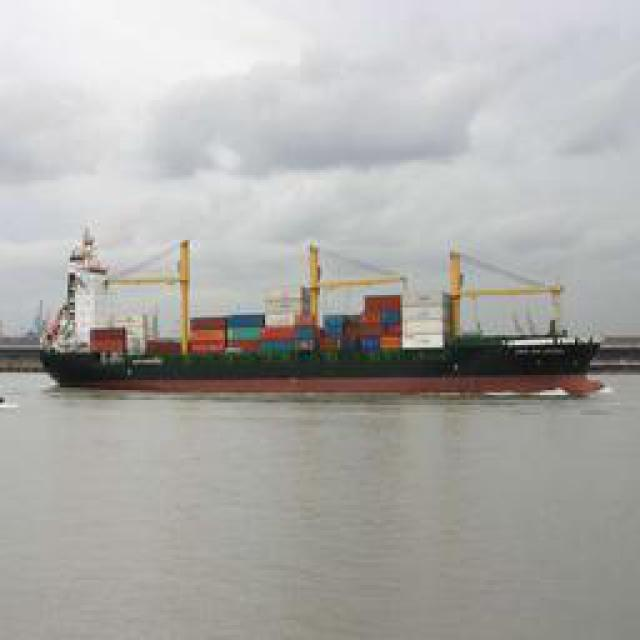Ship: (43, 220, 613, 403)
